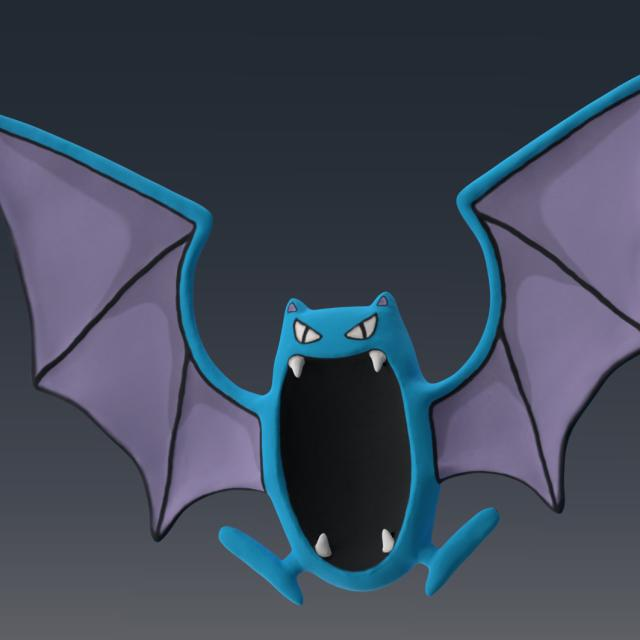Golbat: (124, 200, 573, 604)
